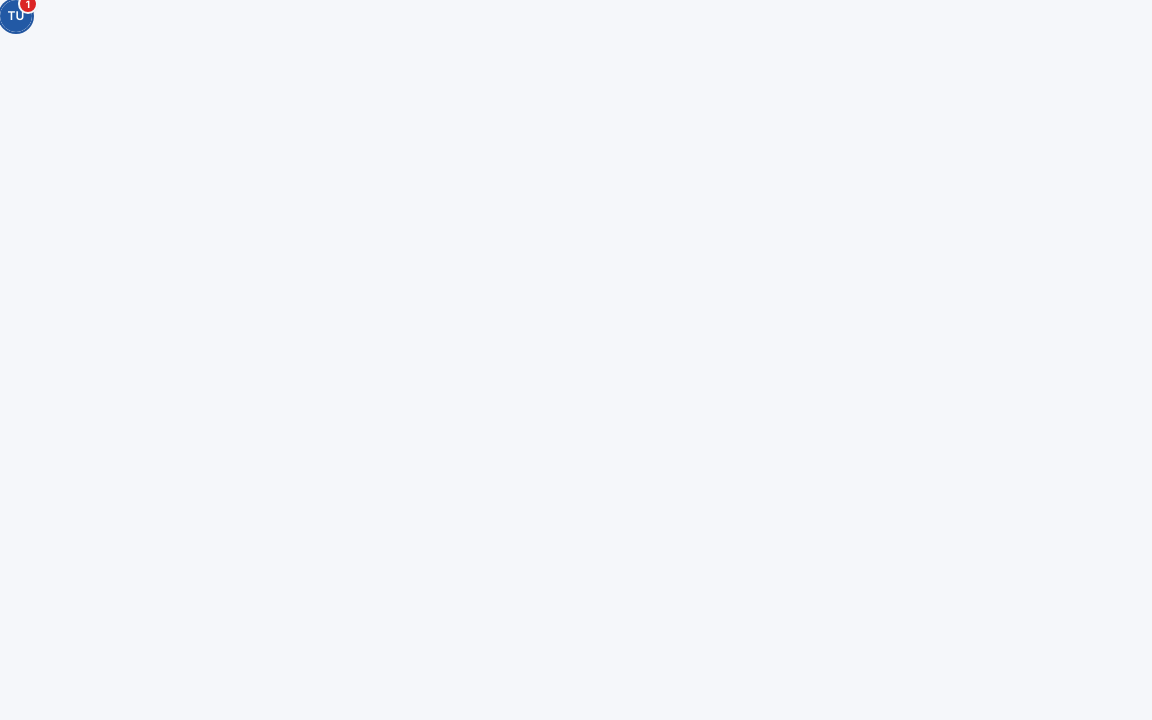
Test case: UserAvatarButton notifications › opens the notifications modal from the bell item inside the avatar menu
Press Enter in the button with aria-label "1 Notificações", box [0, 0, 32, 32]
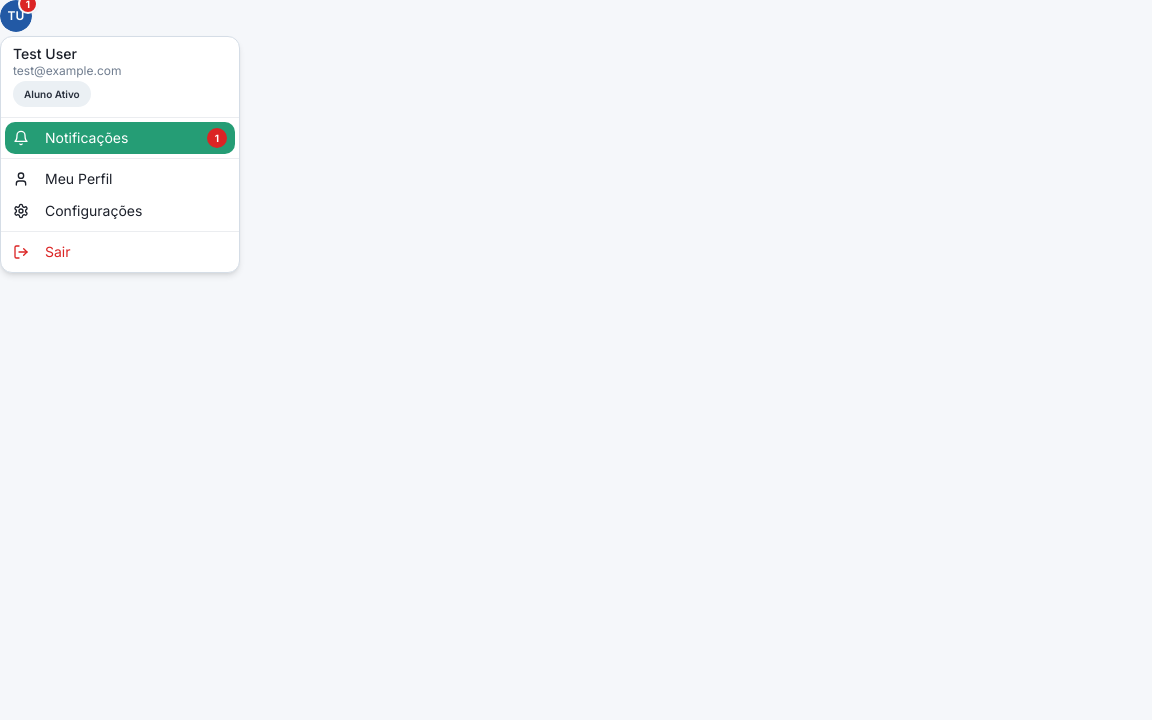
Click the menu item "Notificações 1": [120, 138] box [5, 122, 235, 154]
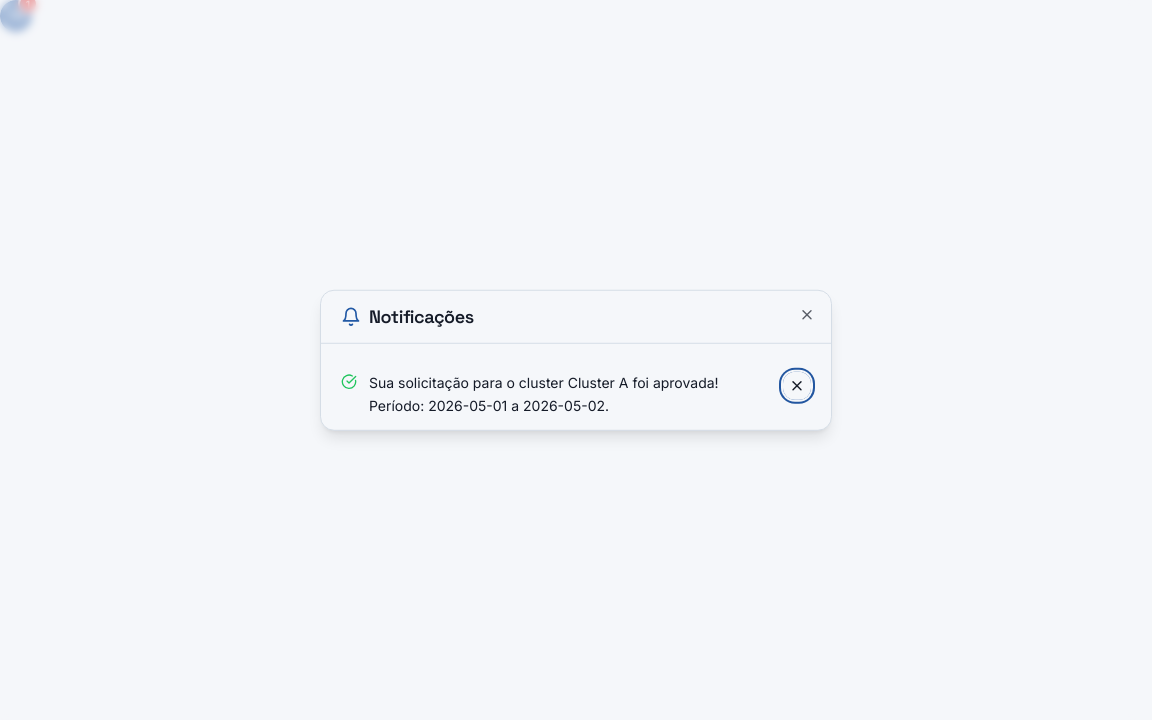
Check: the dialog is shown, box [320, 290, 832, 430]
Check: the text "Cluster A" is shown, box [369, 374, 719, 414]
